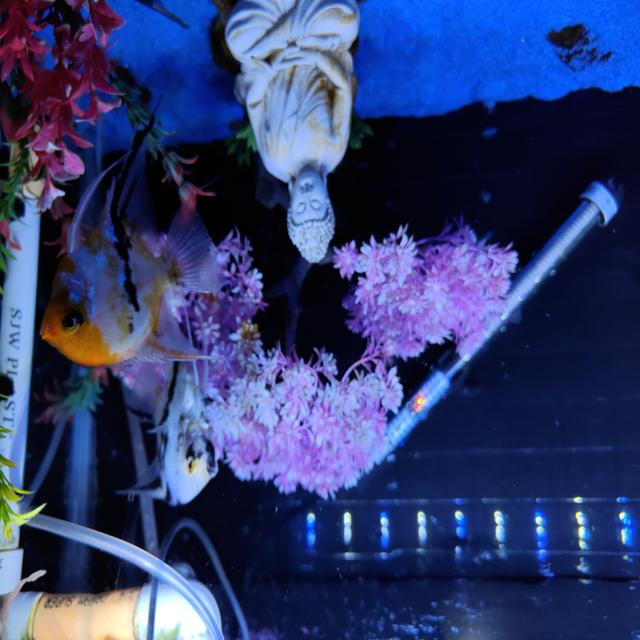Fish: (40, 127, 221, 364), (117, 361, 217, 504)
